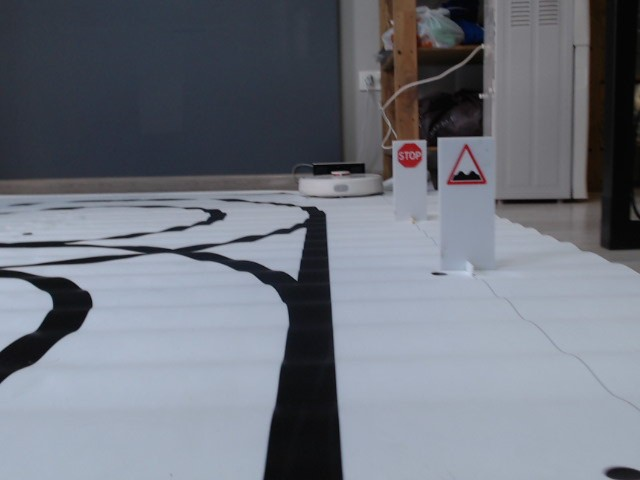Nerov: (443, 142, 488, 187)
Stop: (396, 142, 423, 168)
